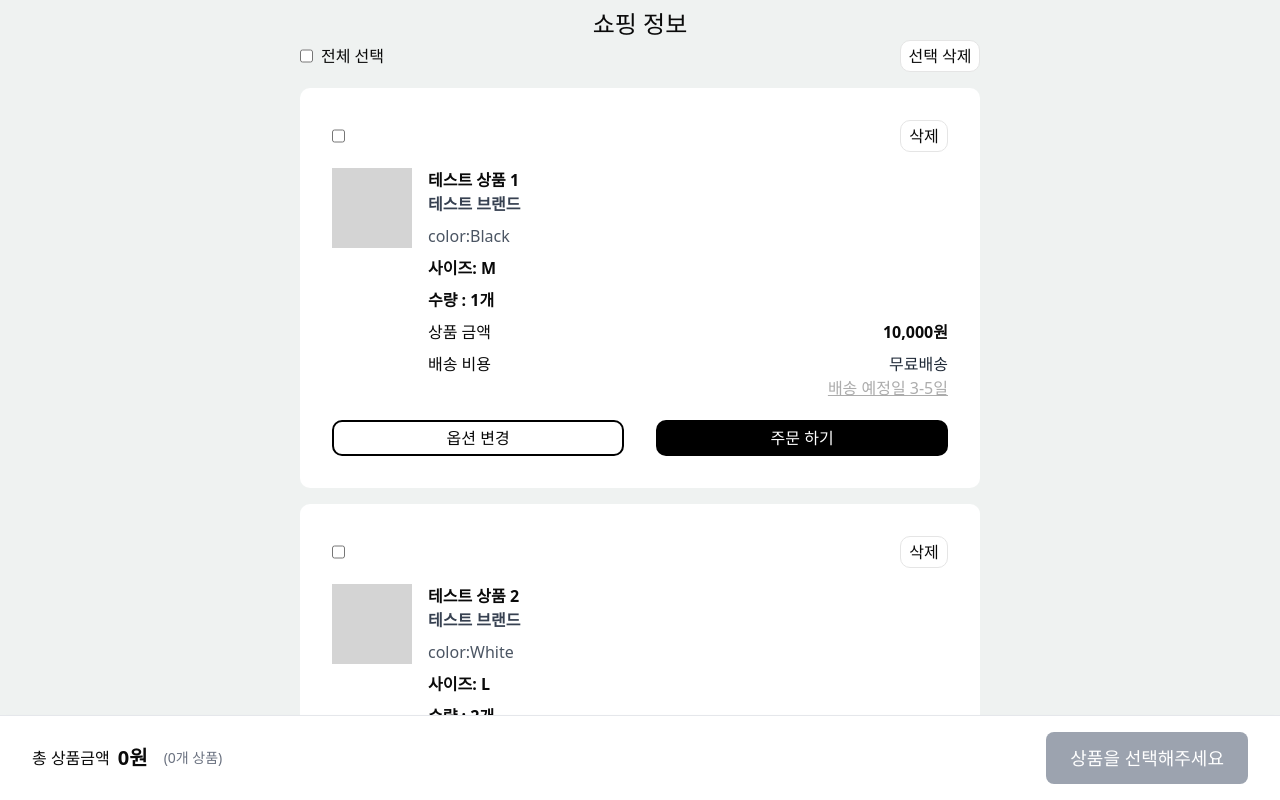
Scenario: 장바구니 사용자 흐름 › 개별 삭제 후 서버에서 장바구니를 다시 조회한다
This screenshot has width=1280, height=800.
Check: the text "테스트 상품 1" is shown, box 428,169 -> 519,191
Click the 1st button "삭제": [924, 136] box 900,120 -> 948,152
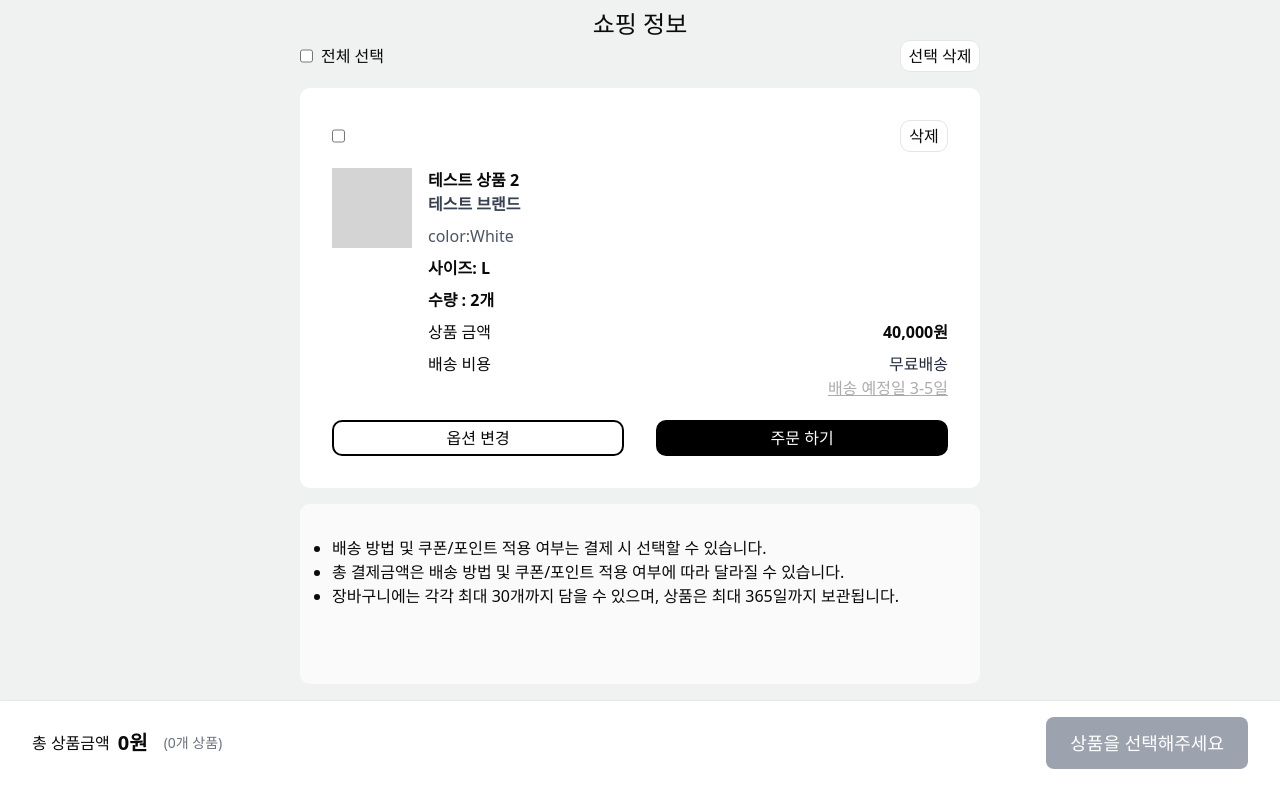
Check: the text "테스트 상품 2" is shown, box 428,169 -> 519,191
Check: the text "테스트 상품 1" is gone
